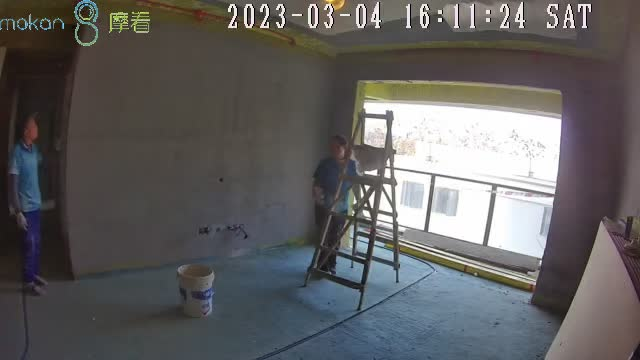people: (4, 112, 56, 296), (312, 133, 359, 275)
window: (362, 99, 561, 260)
